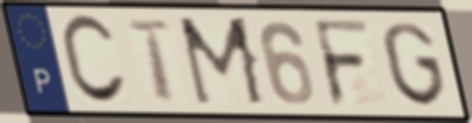6: (255, 18, 316, 107)
C: (57, 11, 131, 108)
F: (309, 17, 375, 111)
G: (379, 19, 450, 110)
M: (174, 15, 271, 110)
T: (123, 18, 180, 105)
